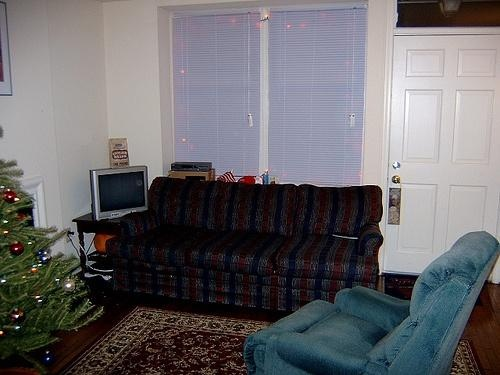chair: (246, 232, 500, 375)
sofa: (105, 173, 383, 315)
tvmonitor: (89, 166, 148, 220)
